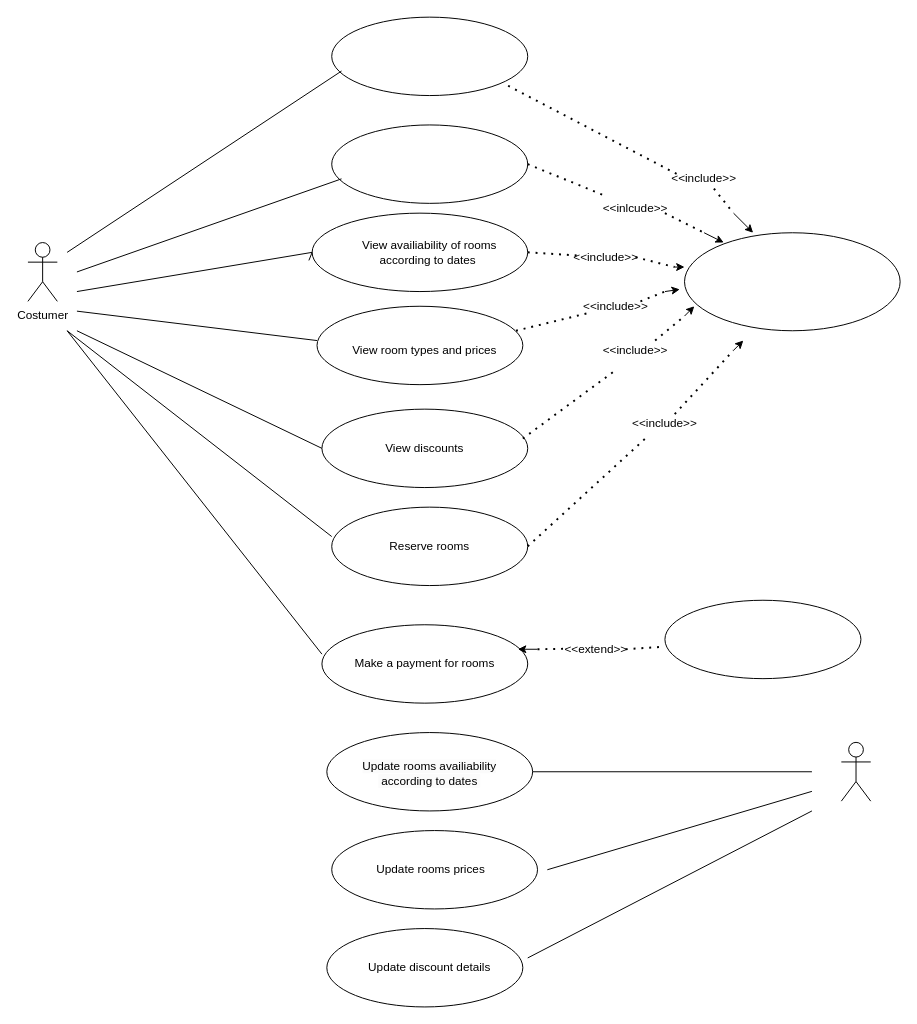
Some shapes in this 917 by 1024 pixel diagram are drawn without their labels. The box of each missing label's shape, as (x1, y1, x2, y2) in pixels:
Create an account: (331, 16, 528, 96)
Generate invoice in PDF format: (664, 599, 861, 679)
Receptionist: (840, 741, 871, 801)
Search for hotels in prefered areas: (331, 124, 528, 203)
System: (684, 232, 900, 331)
